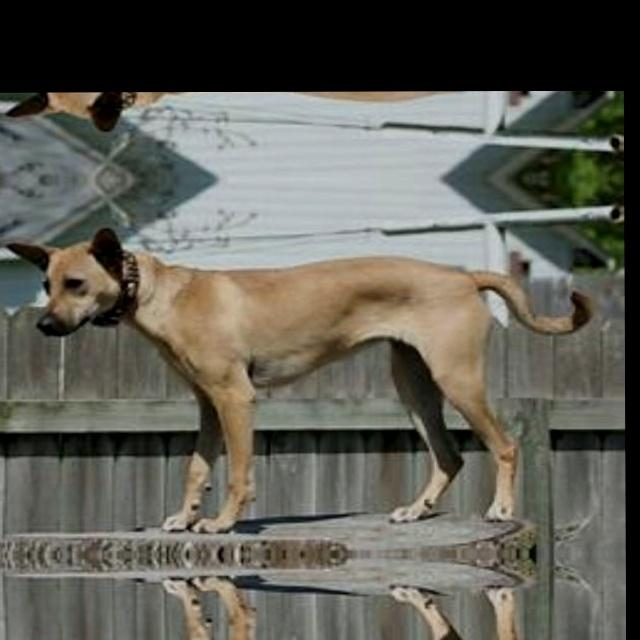dog: (26, 218, 616, 523), (28, 585, 616, 640), (25, 91, 614, 139)
